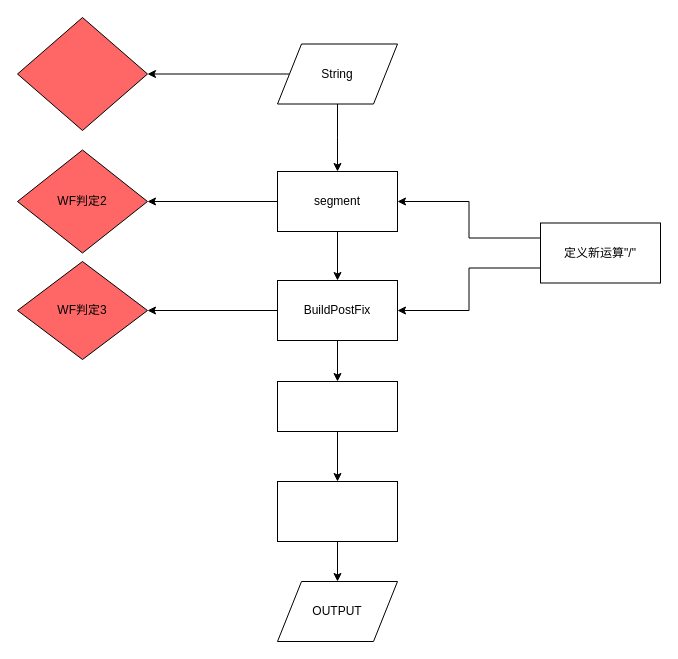
Image size: 678x659. Some labels were removed from this diagram. The shapes that lost their labels are listed below. From the top down, each one's centre as x and y in pixels, then its label:
pixel 82 73: WF判定1
pixel 337 406: Tree
pixel 337 511: Derivation
